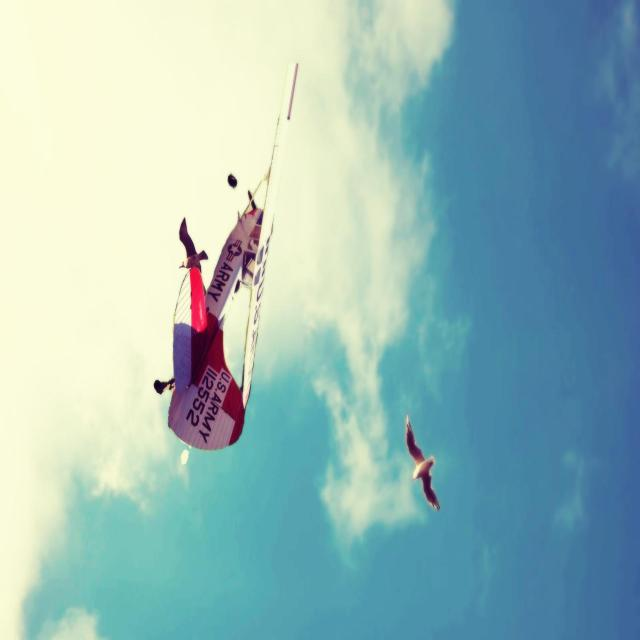airplane: (153, 60, 299, 451)
